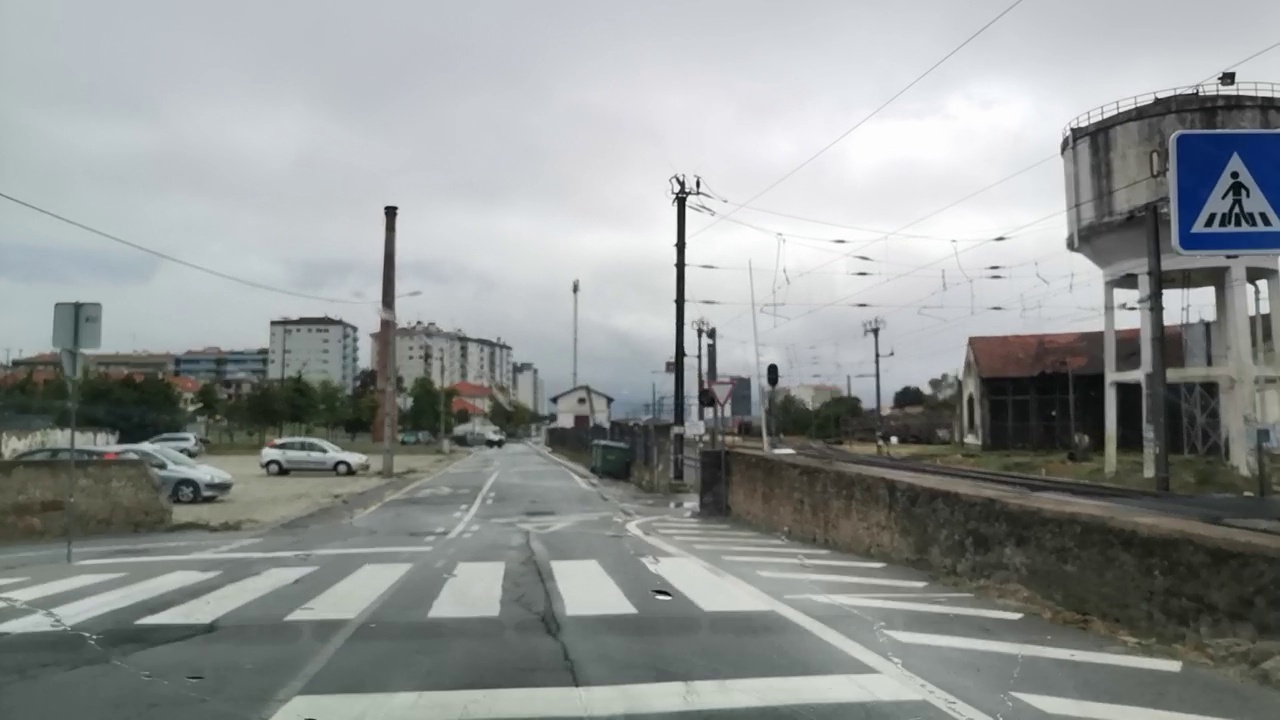Stairs: (0, 552, 779, 635)
